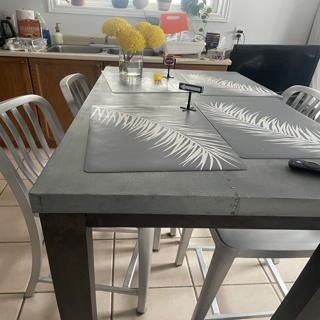sign_noentry: (163, 56, 174, 64)
sign_oneway_left: (177, 82, 203, 93)
